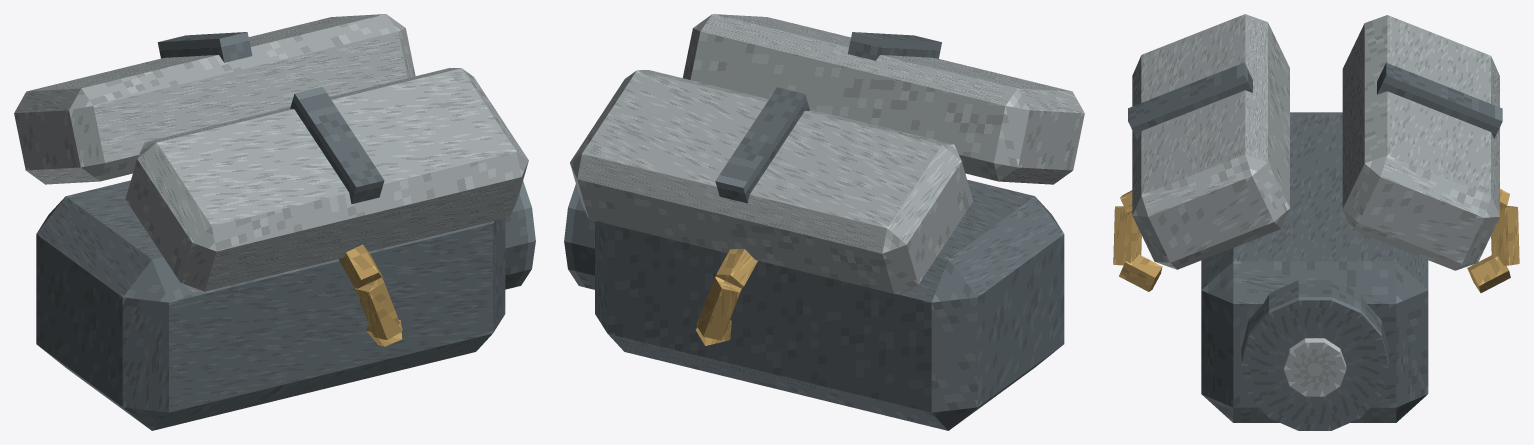
The model's file is v2_combustion.glb.
3 views of the same model, side by side, from view 1: azimuth 30°, elevation 25°; view 2: azimuth 150°, elevation 25°; view 3: azimuth 270°, elevation 25° (orthographic). The views are drawn at different scales.
Visible parts, largest first — view 1: block_valve cover (×2), block_ribbed cast engine housing, block_cast cover rib (×2), block_crank pulley, block_bank exhaust branch 1, block_bank exhaust branch 0; view 2: block_valve cover (×2), block_ribbed cast engine housing, block_cast cover rib (×2), block_crank pulley, block_bank exhaust branch 1, block_bank exhaust branch 0; view 3: block_valve cover (×2), block_ribbed cast engine housing, block_crank pulley, block_cast cover rib (×2), block_pulley hub, block_bank exhaust branch 1 (×2), block_bank exhaust branch 2 (×2).
Boxes of the visible parts, <box> form: block_valve cover (×2): <box>14,14,528,291</box>; block_ribbed cast engine housing: <box>36,180,505,430</box>; block_cast cover rib (×2): <box>157,32,384,204</box>; block_crank pulley: <box>505,181,535,289</box>; block_bank exhaust branch 1: <box>355,277,402,340</box>; block_bank exhaust branch 0: <box>338,244,383,288</box>; block_valve cover (×2): <box>570,14,1084,293</box>; block_ribbed cast engine housing: <box>595,179,1064,430</box>; block_cast cover rib (×2): <box>715,32,941,203</box>; block_crank pulley: <box>564,184,594,289</box>; block_bank exhaust branch 1: <box>696,276,741,340</box>; block_bank exhaust branch 0: <box>716,249,757,288</box>; block_valve cover (×2): <box>1132,14,1499,270</box>; block_ribbed cast engine housing: <box>1201,112,1428,422</box>; block_crank pulley: <box>1241,280,1388,430</box>; block_cast cover rib (×2): <box>1128,62,1502,140</box>; block_pulley hub: <box>1283,338,1346,396</box>; block_bank exhaust branch 1 (×2): <box>1113,206,1519,265</box>; block_bank exhaust branch 2 (×2): <box>1119,254,1510,292</box>.
Bounding box in the file's own units: 0.7872 × 0.5226 × 0.6876.
Materials: 1 (1 with a texture image).
